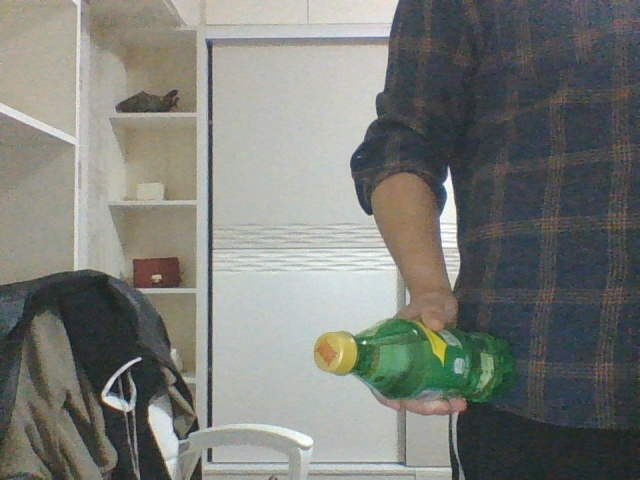Sprite: (315, 320, 511, 403)
